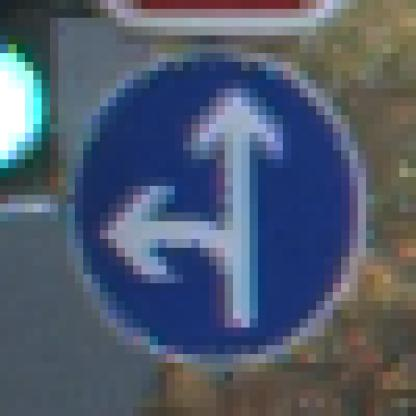Straight or Left: (51, 45, 375, 373)
